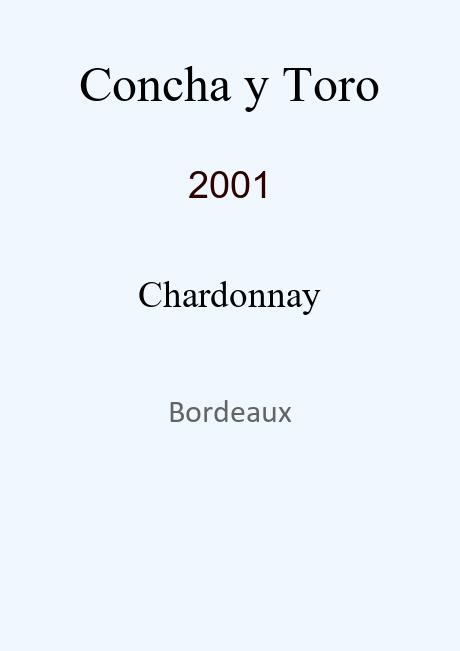brand: (79, 56, 380, 102)
region: (168, 398, 292, 420)
variety: (138, 274, 321, 308)
vintage: (188, 163, 272, 190)
